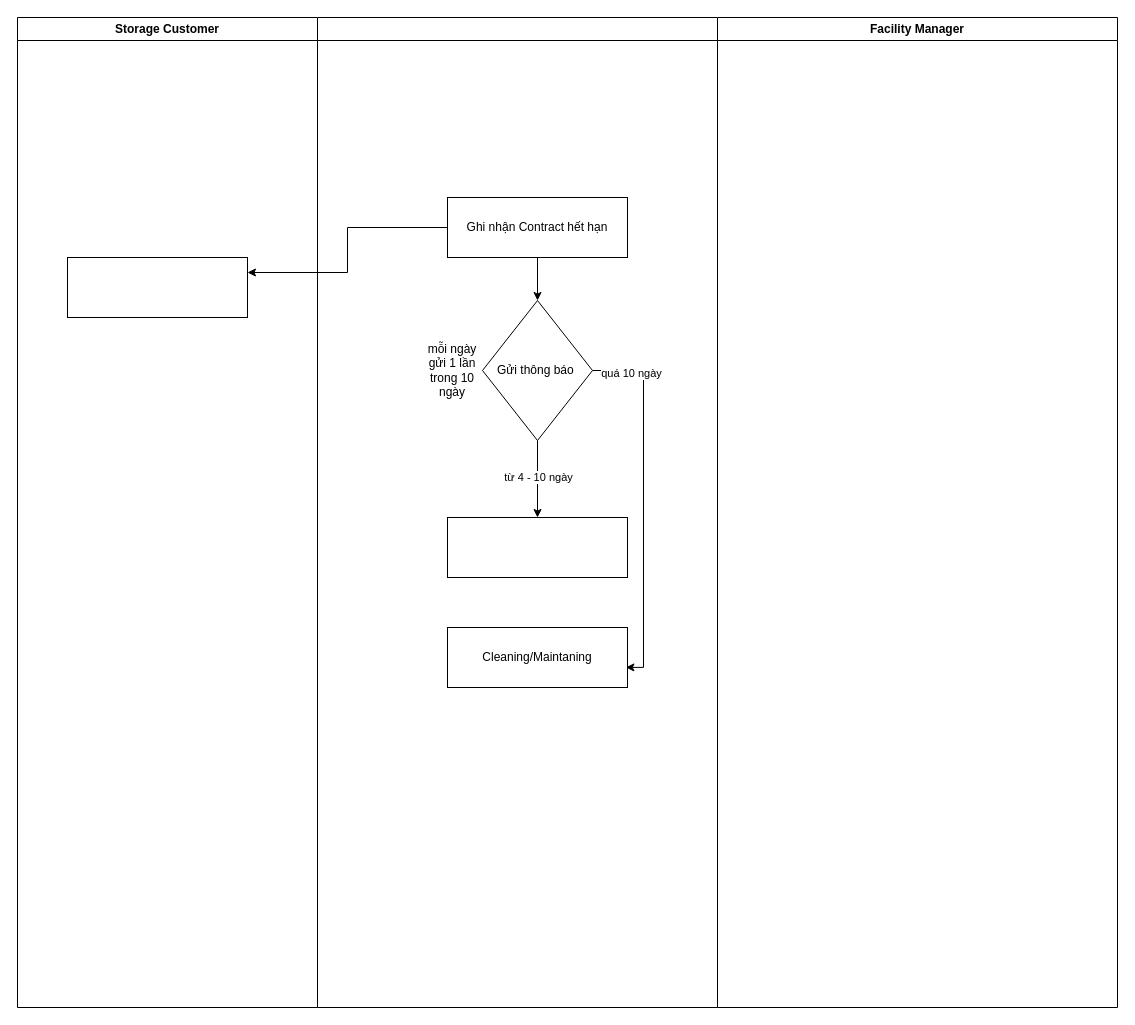
Some shapes in this 1135 by 1025 pixel diagram are drawn without their labels. The box of each missing label's shape, as (x1, y1, x2, y2) in pixels:
Nhận thông báo dọn đồ: (66, 256, 248, 318)
System: (316, 16, 718, 1008)
Tính phí quá hạn kể từ ngày thứ 4: (446, 516, 628, 578)
